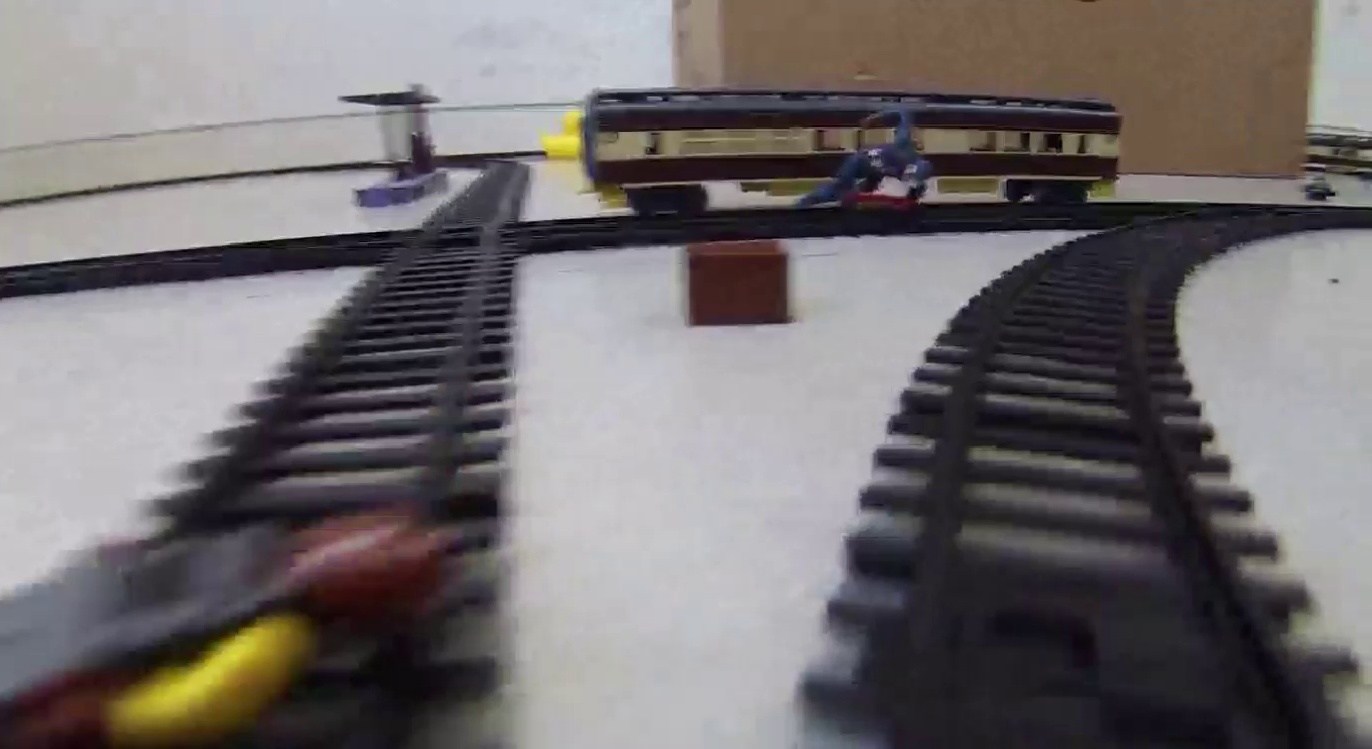box: (679, 238, 796, 331)
people: (795, 109, 934, 204)
